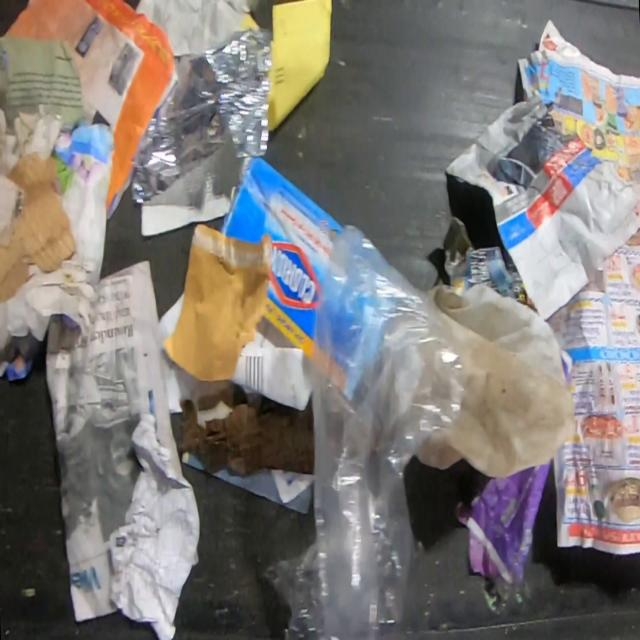cardboard: (0, 148, 77, 303)
soft_plastic: (260, 222, 465, 638), (414, 281, 576, 477), (130, 29, 271, 204)
